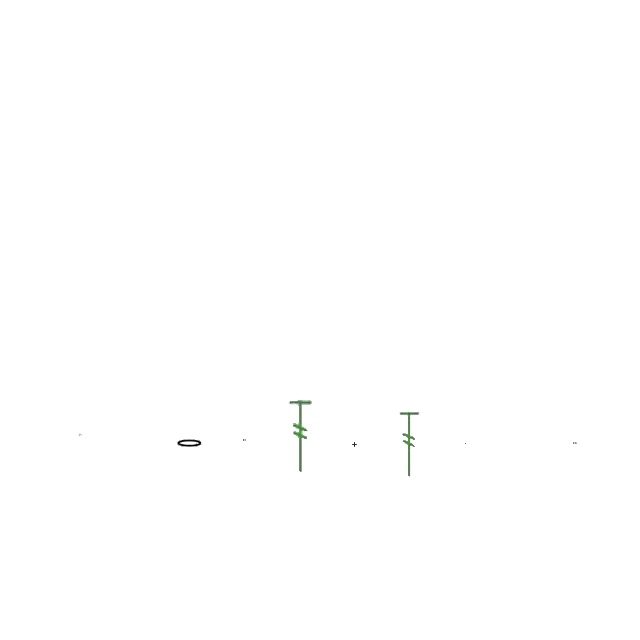chain: (176, 438, 204, 450), (573, 442, 577, 444), (244, 439, 246, 441), (464, 444, 466, 444)
double: (352, 442, 358, 448), (78, 433, 82, 437)
fan: (287, 400, 313, 474), (398, 410, 422, 480)
